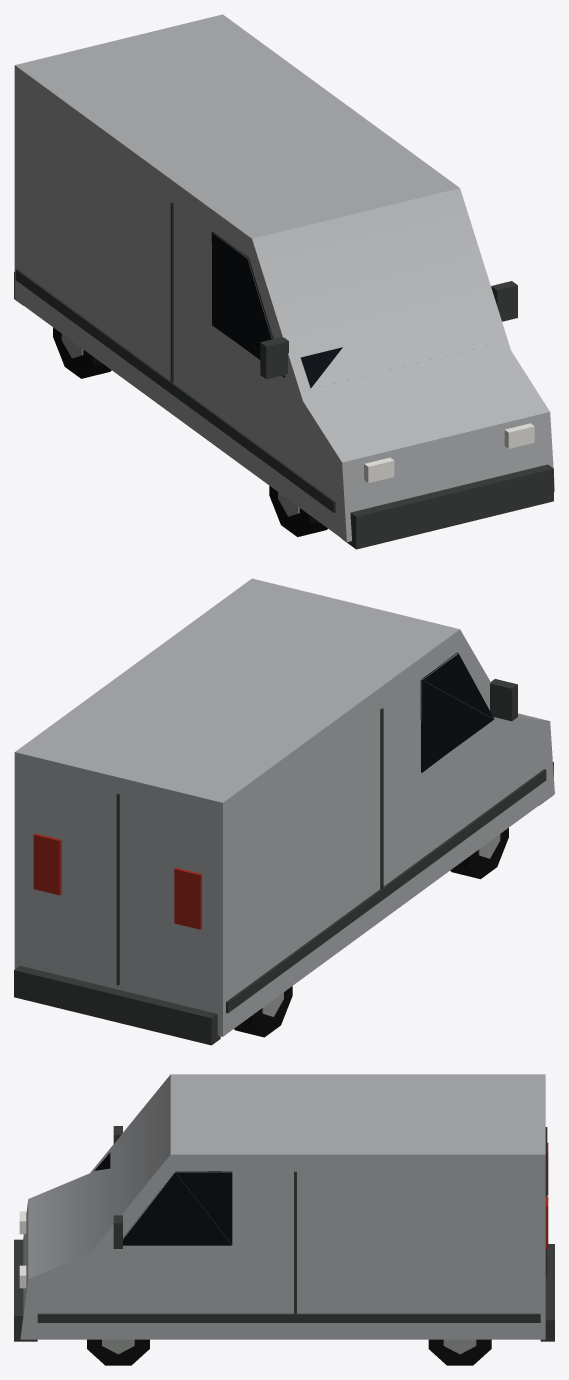
Rendered from vehicle.van.estate_silver.glb.
3 views of the same model, one above another, from view 1: azimuth 30°, elevation 25°; view 2: azimuth 150°, elevation 25°; view 3: azimuth 270°, elevation 25° (orthographic). The views are drawn at different scales.
Parts seen in each view (by area): view 1: main__paint_aaa, main__paint_333, main__glass_dark, main__rubber, main__paint_eee; view 2: main__paint_aaa, main__paint_333, main__glass_dark, main__paint_a21, main__rubber; view 3: main__paint_aaa, main__paint_333, main__glass_dark, main__rubber, main__steel_999, main__paint_eee.
Part boxes in pixels (bbox=[...]): main__paint_aaa: bbox=[14, 14, 554, 542]; main__paint_333: bbox=[14, 202, 553, 549]; main__glass_dark: bbox=[211, 232, 342, 388]; main__rubber: bbox=[53, 327, 327, 536]; main__paint_eee: bbox=[364, 423, 534, 482]; main__paint_aaa: bbox=[14, 578, 554, 1036]; main__paint_333: bbox=[14, 679, 553, 1045]; main__glass_dark: bbox=[420, 652, 494, 772]; main__paint_a21: bbox=[33, 833, 201, 929]; main__rubber: bbox=[234, 828, 508, 1037]; main__paint_aaa: bbox=[20, 1074, 545, 1339]; main__paint_333: bbox=[14, 1126, 554, 1341]; main__glass_dark: bbox=[94, 1152, 232, 1245]; main__rubber: bbox=[87, 1339, 491, 1365]; main__steel_999: bbox=[102, 1339, 476, 1354]; main__paint_eee: bbox=[19, 1211, 26, 1288].
Size of the model in its own units: 2.42 by 2.47 by 5.7.
